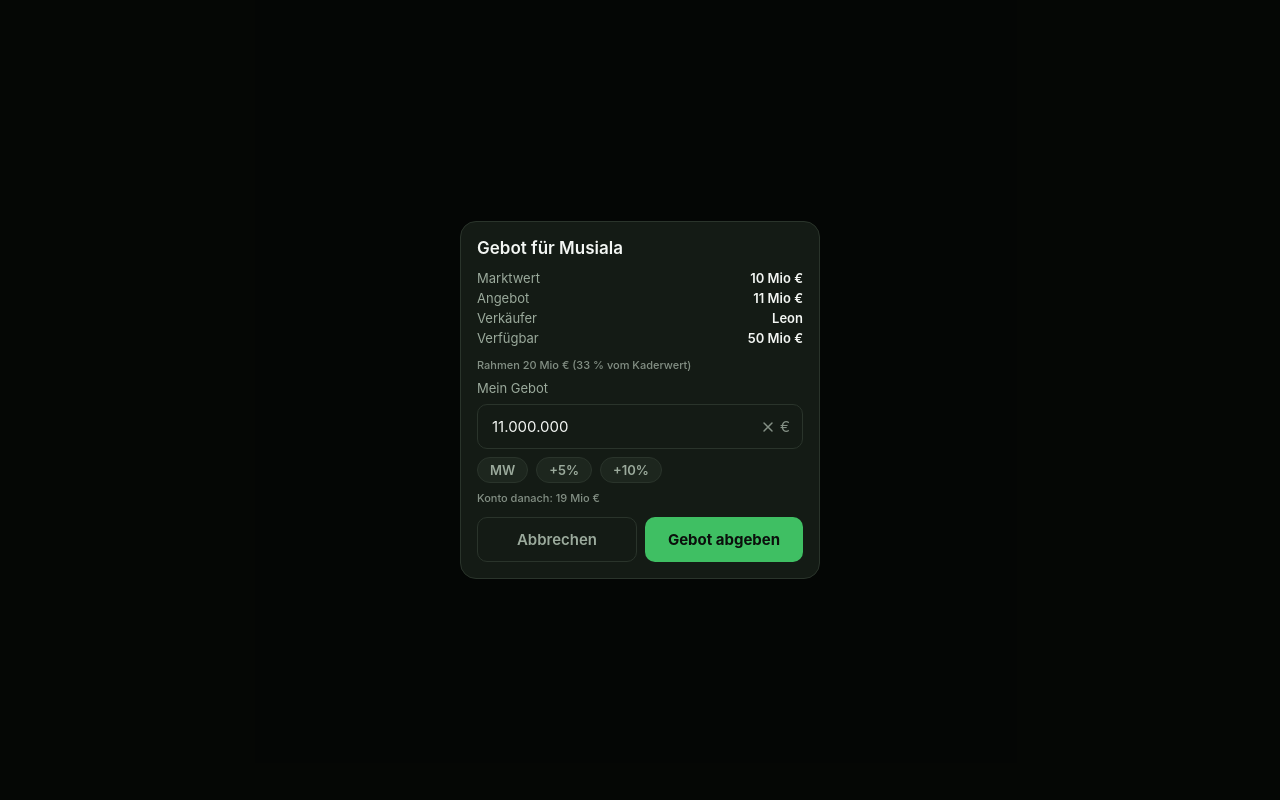
Scenario: OfferModal › übernimmt die Schnellwahl +5%
This screenshot has width=1280, height=800.
What coordinates should you click on to do the following:
click the button "+5%"
I would click on:
 (564, 470)
Its box is [536,457,592,483].
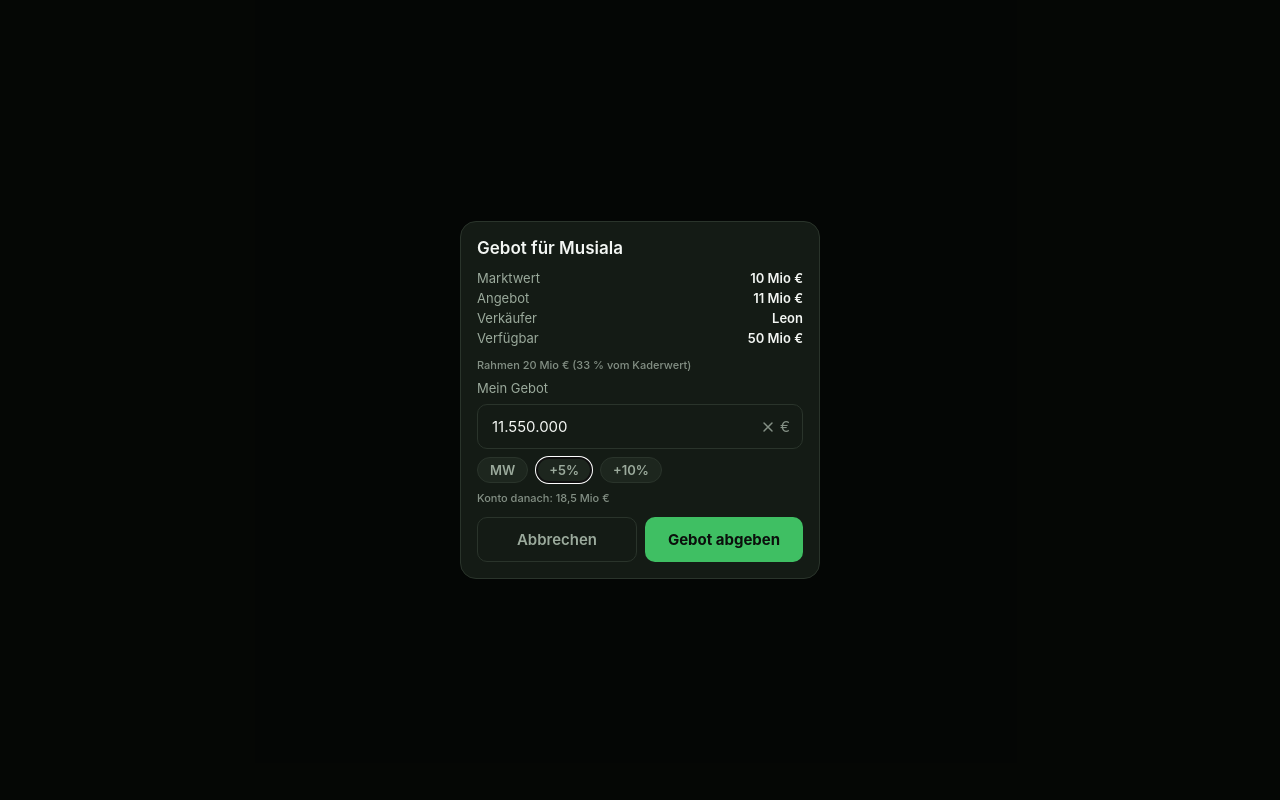
Expected: the field labelled "Mein Gebot" holds "11.550.000", [490,405,752,448]
